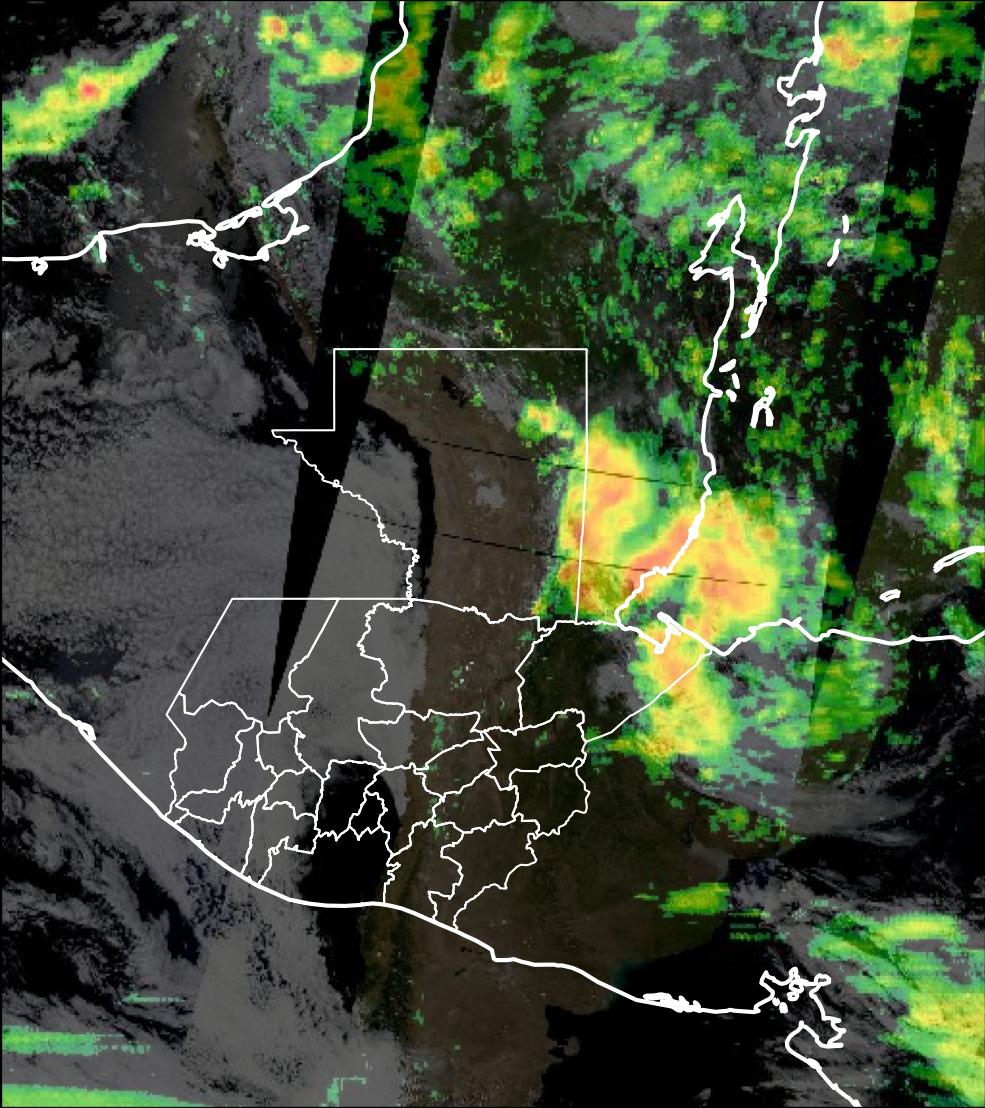precipitacion: (587, 441, 698, 612)
